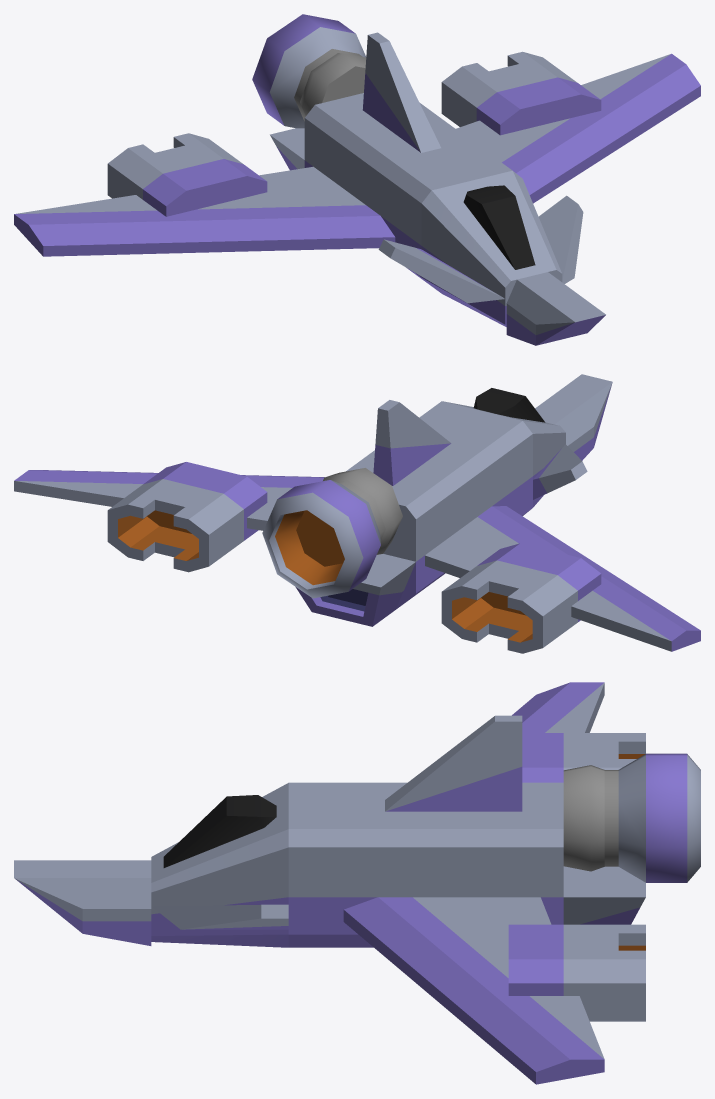
The model's file is TempTextureSpaceship.fbx.
3 views of the same model, one above another, from view 1: azimuth 30°, elevation 25°; view 2: azimuth 150°, elevation 25°; view 3: azimuth 270°, elevation 25° (orthographic). The views are drawn at different scales.
Visible parts, largest first — view 1: mergedBlocks; view 2: mergedBlocks; view 3: mergedBlocks.
Boxes of the visible parts, bbox=[...] form: mergedBlocks: bbox=[14, 14, 700, 345]; mergedBlocks: bbox=[14, 374, 700, 653]; mergedBlocks: bbox=[14, 682, 700, 1084].
Size of the model in its own units: 65 by 17 by 50.
